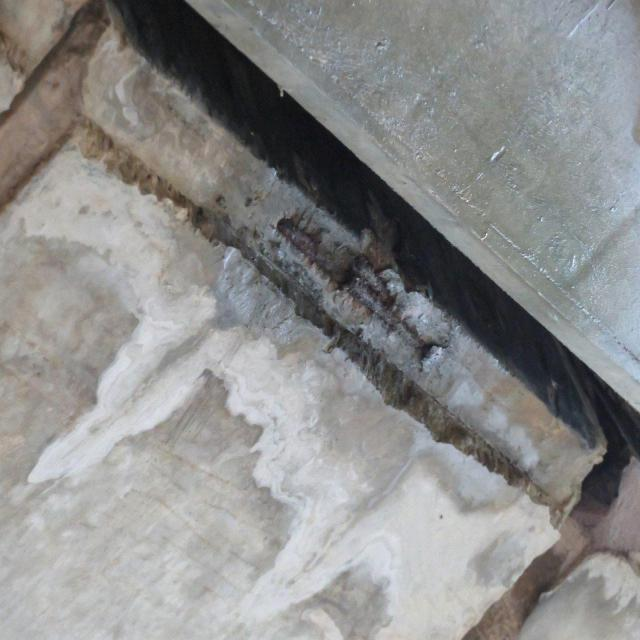Rebar: (275, 213, 421, 349)
